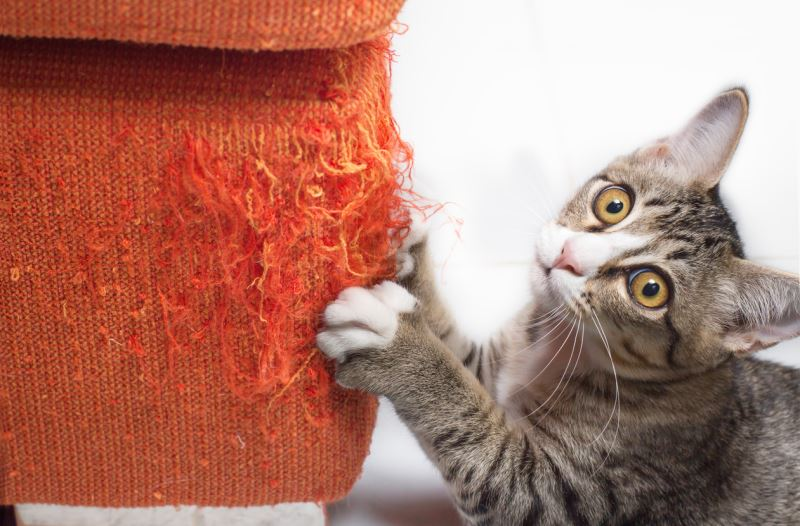cat: (516, 151, 777, 445)
